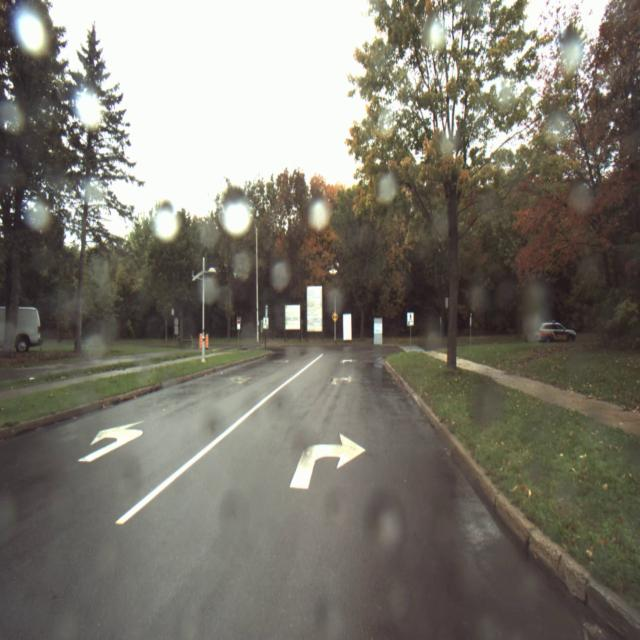car: (538, 322, 578, 346)
